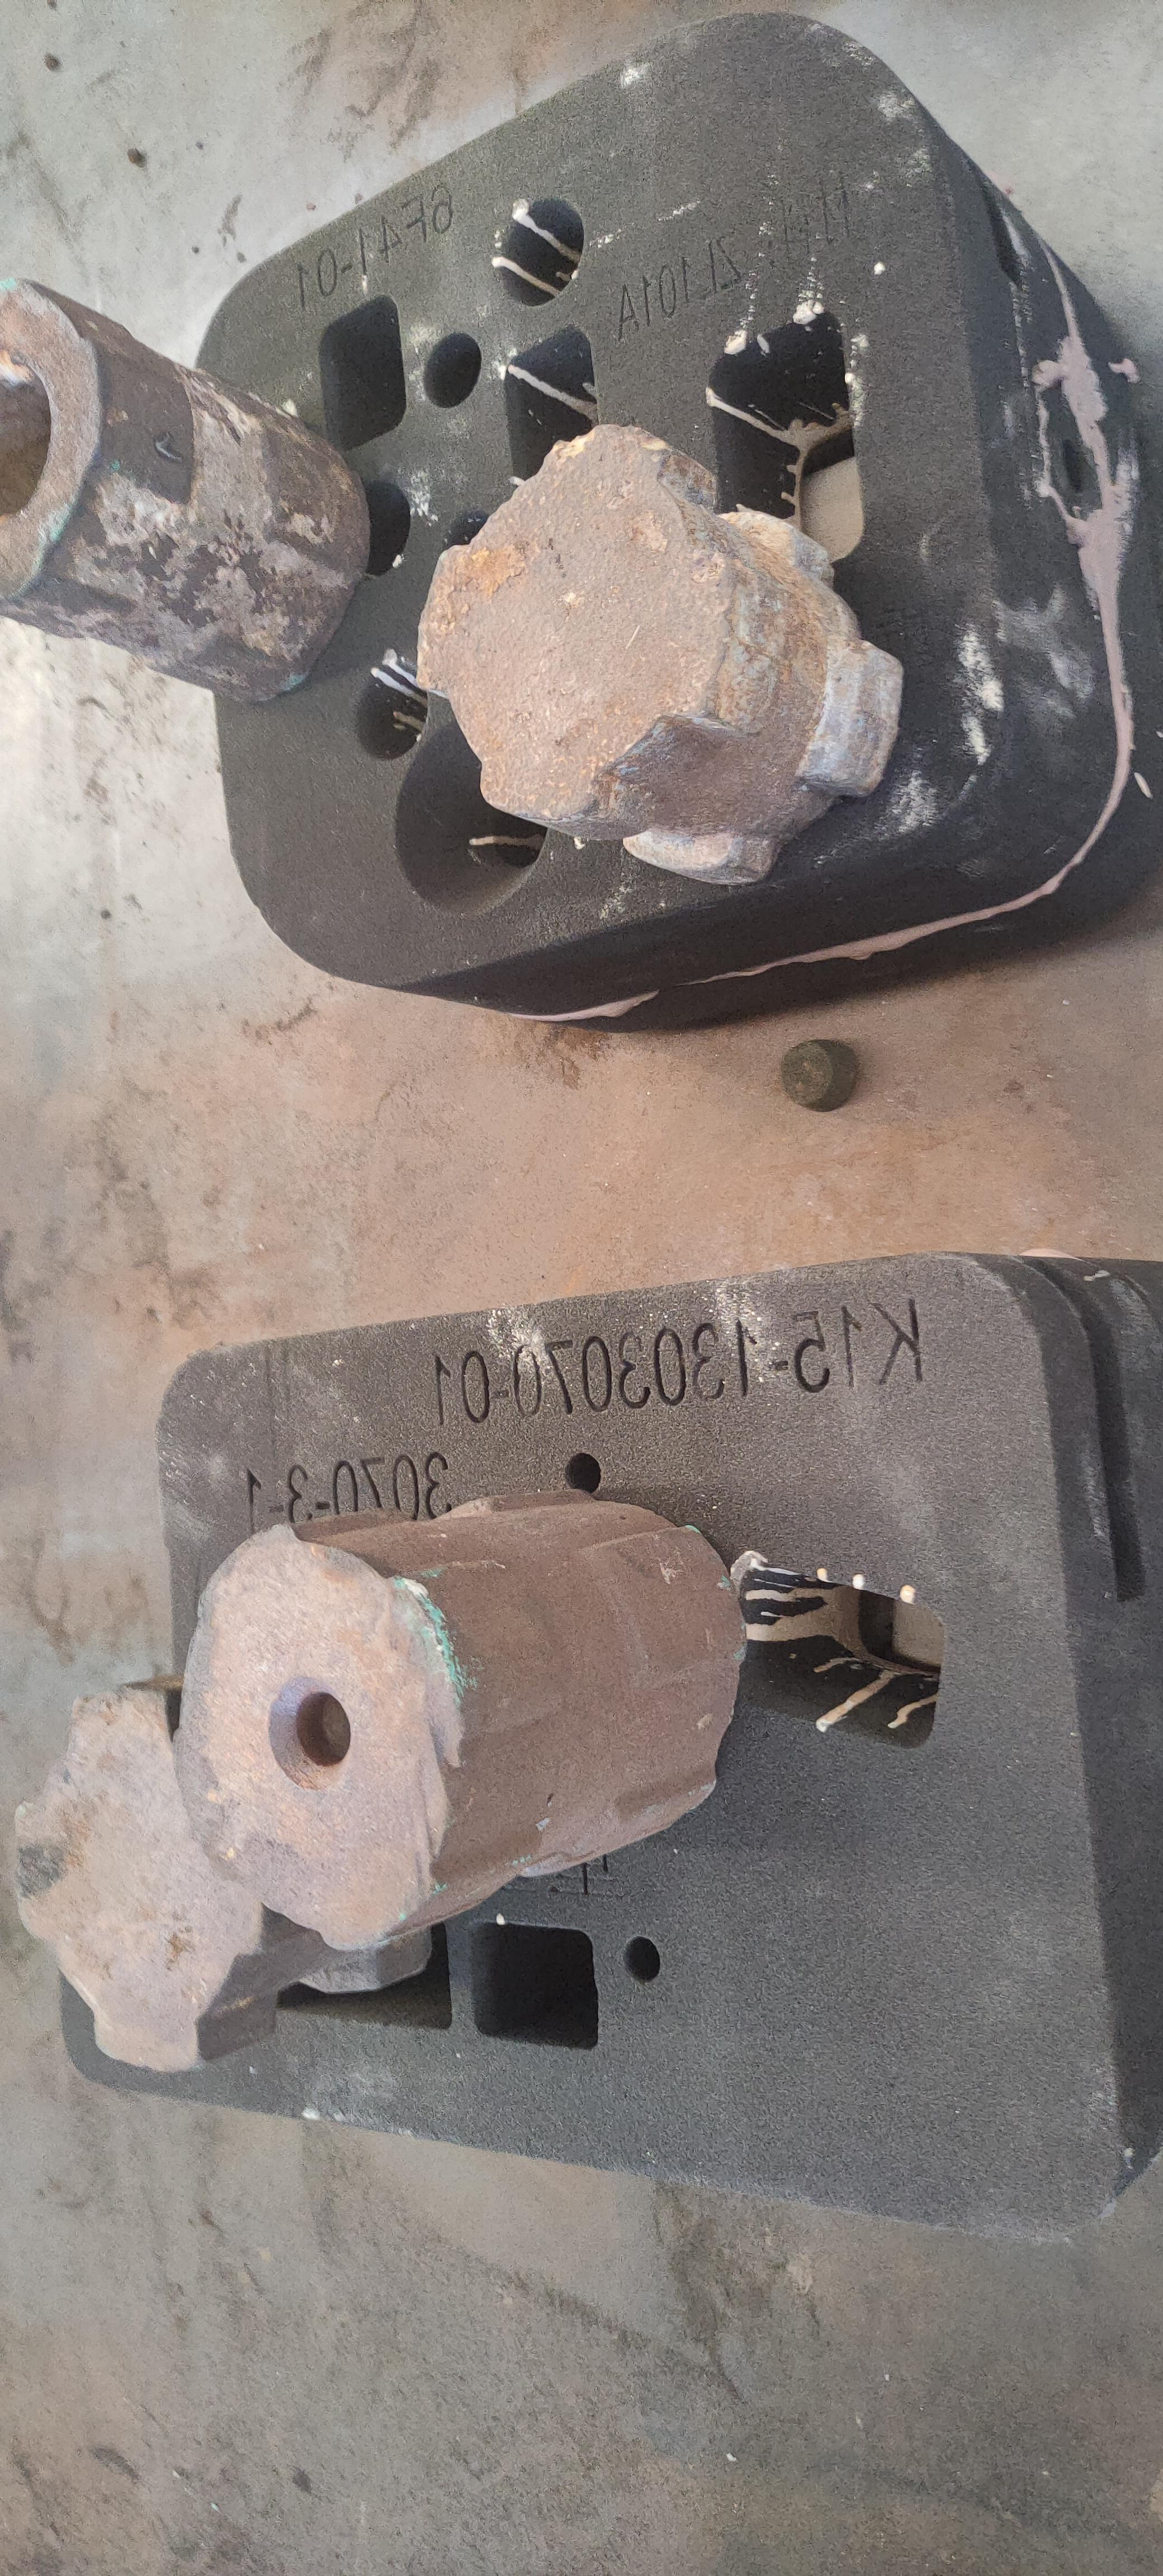pouring hole: (393, 715, 560, 917), (62, 1855, 248, 2034)
